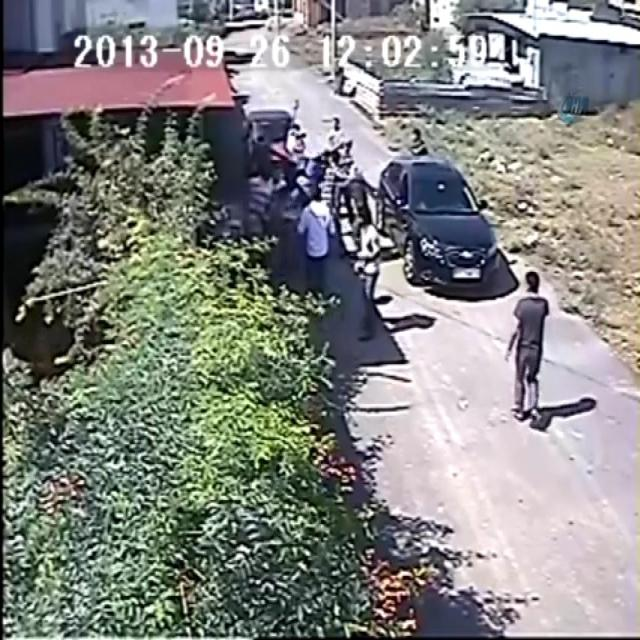fight: (253, 121, 405, 334)
